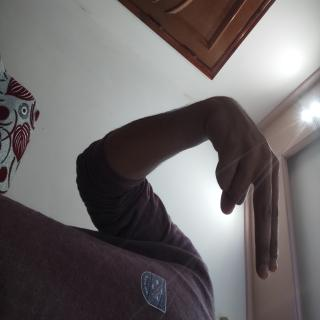AYN: (69, 37, 216, 172)
